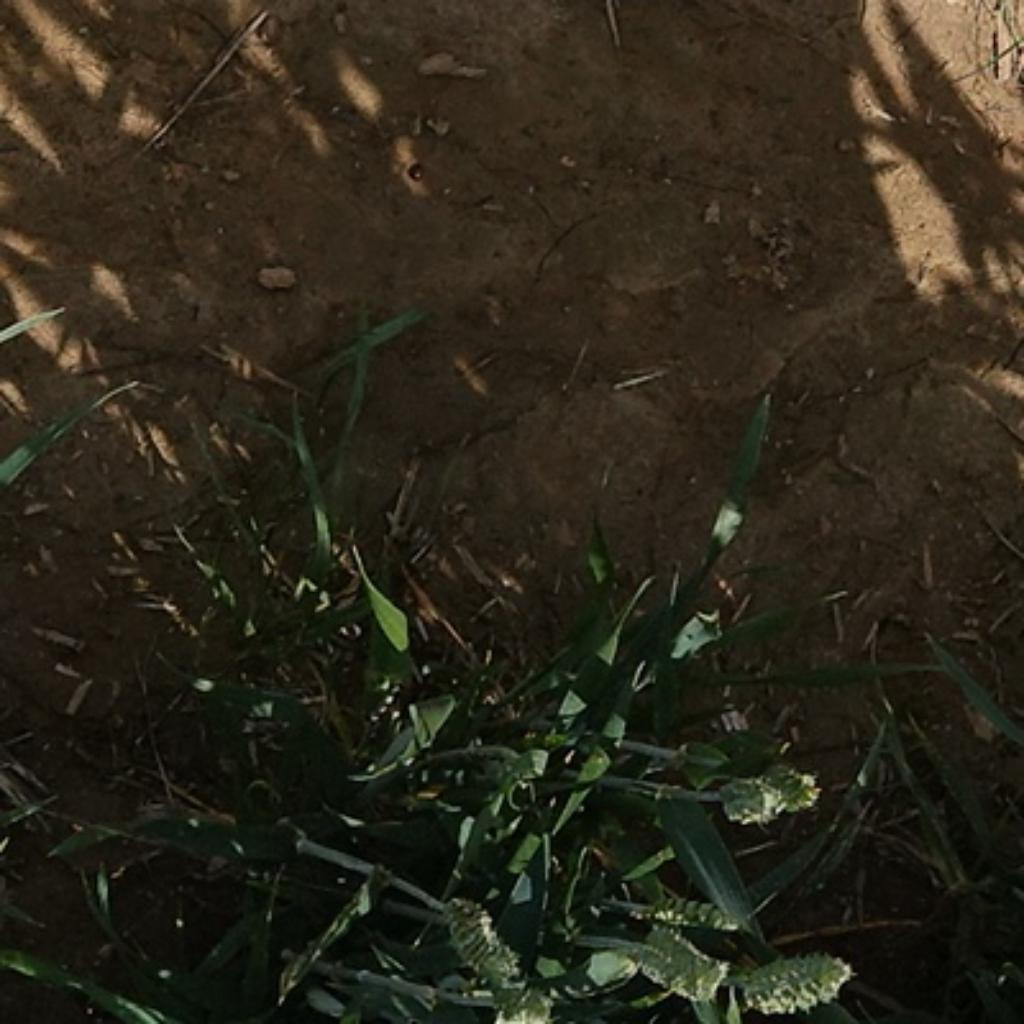0-0: (425, 883, 537, 995), (724, 946, 856, 1016), (628, 923, 727, 1007), (707, 761, 824, 829), (637, 886, 749, 934)
